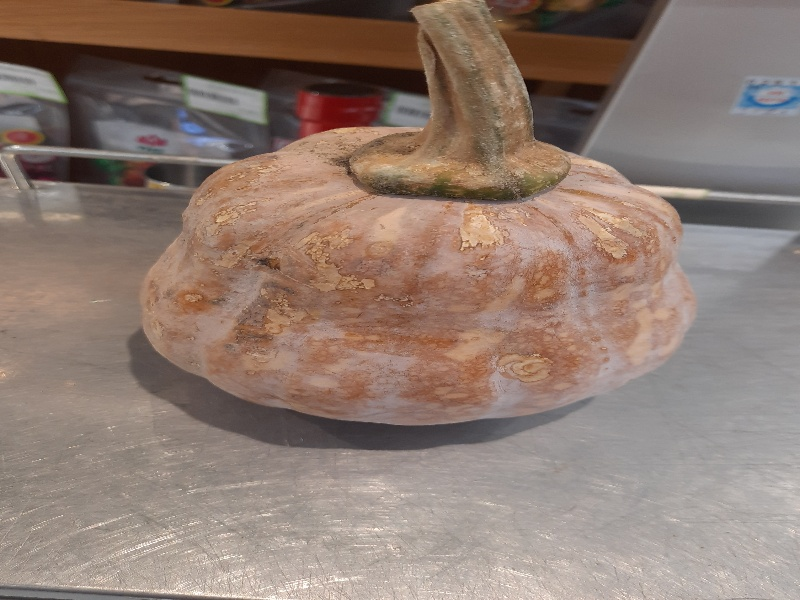vege: (128, 5, 700, 438)
